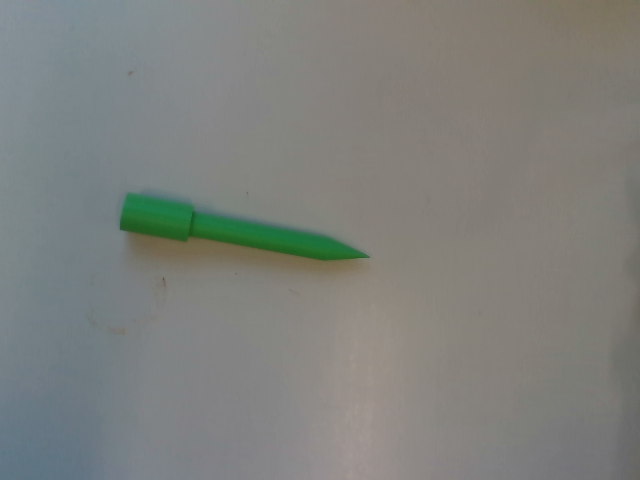Probe: (112, 184, 380, 267)
